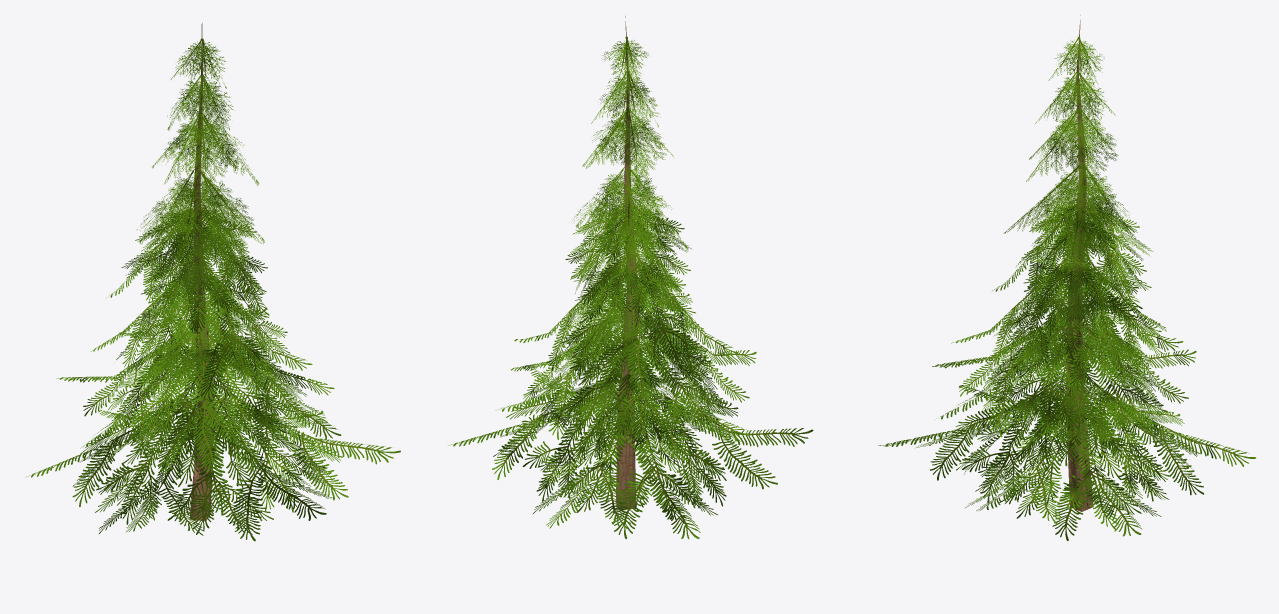
Rendered from spruce_trees.001.glb.
3 views of the same model, side by side, from view 1: azimuth 30°, elevation 25°; view 2: azimuth 150°, elevation 25°; view 3: azimuth 270°, elevation 25° (orthographic). The views are drawn at different scales.
Parts seen in each view (by area): view 1: spruce_trees.001; view 2: spruce_trees.001; view 3: spruce_trees.001.
Boxes of the visible parts, x1,y1,x2,y2 form: spruce_trees.001: [25, 23, 400, 541]; spruce_trees.001: [448, 16, 813, 539]; spruce_trees.001: [878, 15, 1255, 540].
Size of the model in its own units: 3.33 by 4.3 by 3.09.
1 material, 1 textured.
